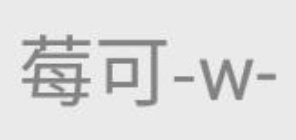TextView: (1, 1, 295, 139)
